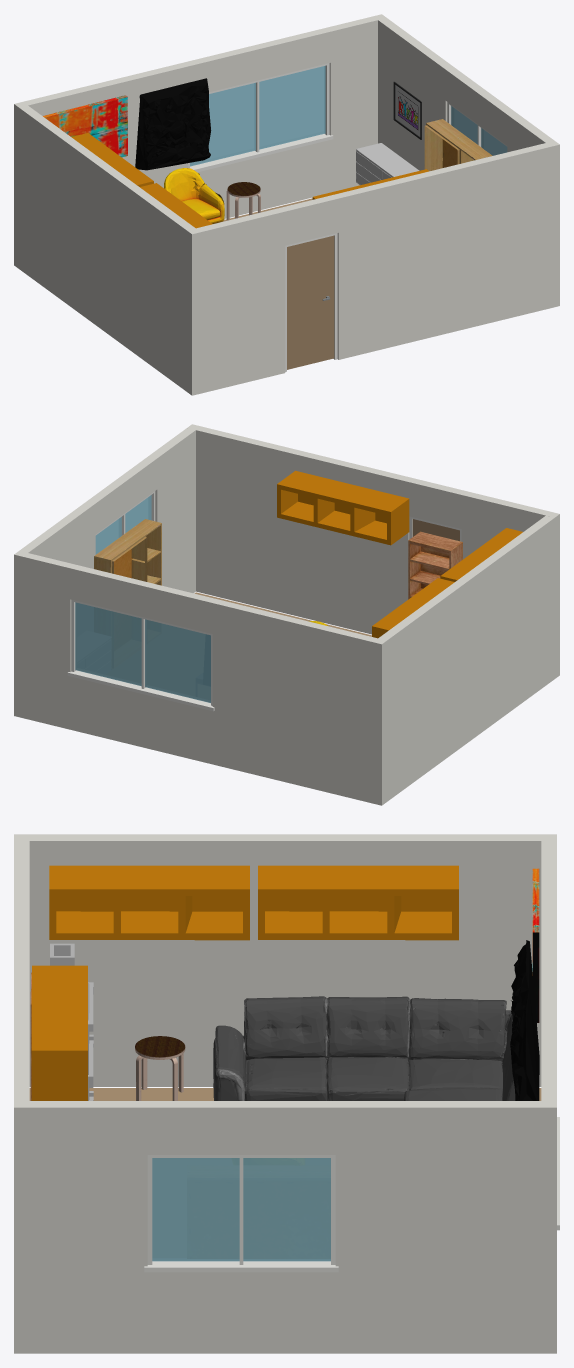
File: holodeck.glb
3 renders of one model, top to bottom at view 1: azimuth 30°, elevation 25°; view 2: azimuth 150°, elevation 25°; view 3: azimuth 270°, elevation 25°, orthographic. The views are drawn at different scales.
Parts seen in each view (by area): view 1: wall|scenesmith_029__R00|0, wall|scenesmith_029__R00|2, wall|scenesmith_029__R00|1, wall|scenesmith_029__R00|3, wall|scenesmith_029__R00|1 Window 0 | glazing, wall|scenesmith_029__R00|0 Door 0 | wood leaf, scenesmith_029__R00_16, scenesmith_029__R00_14, scenesmith_029__R00_11, scenesmith_029__R00_9, wall|scenesmith_029__R00|1 Window 0 | jamb, scenesmith_029__R00_5 (+5 smaller); view 2: wall|scenesmith_029__R00|1, wall|scenesmith_029__R00|0, wall|scenesmith_029__R00|2, wall|scenesmith_029__R00|3, wall|scenesmith_029__R00|1 Window 0 | glazing, scenesmith_029__R00_11, scenesmith_029__R00_9, scenesmith_029__R00_10, wall|scenesmith_029__R00|1 Window 0 | jamb, wall|scenesmith_029__R00|3 Window 0 | glazing, wall|scenesmith_029__R00|0 Door 0 | wood leaf; view 3: wall|scenesmith_029__R00|3, wall|scenesmith_029__R00|2, scenesmith_029__R00_11, scenesmith_029__R00_2, wall|scenesmith_029__R00|3 Window 0 | glazing, wall|scenesmith_029__R00|0, wall|scenesmith_029__R00|1, wall|scenesmith_029__R00|3 Window 0 | jamb, scenesmith_029__R00_16, scenesmith_029__R00_7, floor, scenesmith_029__R00_0 (+1 smaller).
Part boxes in pixels (x1,y1,x2,y2): wall|scenesmith_029__R00|0: (187, 141, 559, 393); wall|scenesmith_029__R00|2: (14, 103, 200, 395); wall|scenesmith_029__R00|1: (14, 16, 377, 268); wall|scenesmith_029__R00|3: (373, 14, 559, 307); wall|scenesmith_029__R00|1 Window 0 | glazing: (190, 65, 325, 166); wall|scenesmith_029__R00|0 Door 0 | wood leaf: (287, 235, 334, 369); scenesmith_029__R00_16: (135, 78, 211, 170); scenesmith_029__R00_14: (43, 95, 127, 157); scenesmith_029__R00_11: (71, 133, 429, 228); scenesmith_029__R00_9: (424, 119, 492, 170); wall|scenesmith_029__R00|1 Window 0 | jamb: (188, 63, 333, 172); scenesmith_029__R00_5: (164, 168, 224, 223); wall|scenesmith_029__R00|1: (23, 553, 386, 805); wall|scenesmith_029__R00|0: (187, 424, 559, 634); wall|scenesmith_029__R00|2: (373, 514, 559, 805); wall|scenesmith_029__R00|3: (14, 428, 195, 717); wall|scenesmith_029__R00|1 Window 0 | glazing: (75, 602, 210, 702); scenesmith_029__R00_11: (277, 470, 522, 638); scenesmith_029__R00_9: (94, 519, 161, 585); scenesmith_029__R00_10: (408, 531, 462, 599); wall|scenesmith_029__R00|1 Window 0 | jamb: (67, 599, 214, 711); wall|scenesmith_029__R00|3 Window 0 | glazing: (95, 495, 151, 554); wall|scenesmith_029__R00|0 Door 0 | wood leaf: (412, 519, 459, 541); wall|scenesmith_029__R00|3: (29, 1101, 556, 1353); wall|scenesmith_029__R00|2: (29, 834, 556, 1086); scenesmith_029__R00_11: (31, 865, 458, 1100); scenesmith_029__R00_2: (213, 996, 515, 1100); wall|scenesmith_029__R00|3 Window 0 | glazing: (152, 1158, 330, 1261); wall|scenesmith_029__R00|0: (14, 834, 29, 1353); wall|scenesmith_029__R00|1: (541, 834, 556, 1353); wall|scenesmith_029__R00|3 Window 0 | jamb: (144, 1155, 338, 1272); scenesmith_029__R00_16: (510, 940, 539, 1100); scenesmith_029__R00_7: (135, 1036, 185, 1100); floor: (29, 1088, 541, 1100); scenesmith_029__R00_0: (50, 943, 93, 1100).
Bounding box in the file's own units: 6.23 × 2.61 × 5.23.
18 materials, 9 textured.
